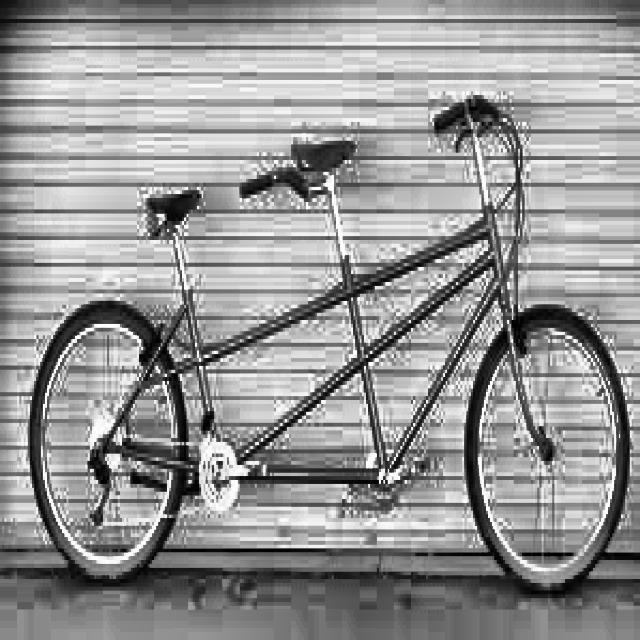bicycle: (20, 98, 631, 593)
